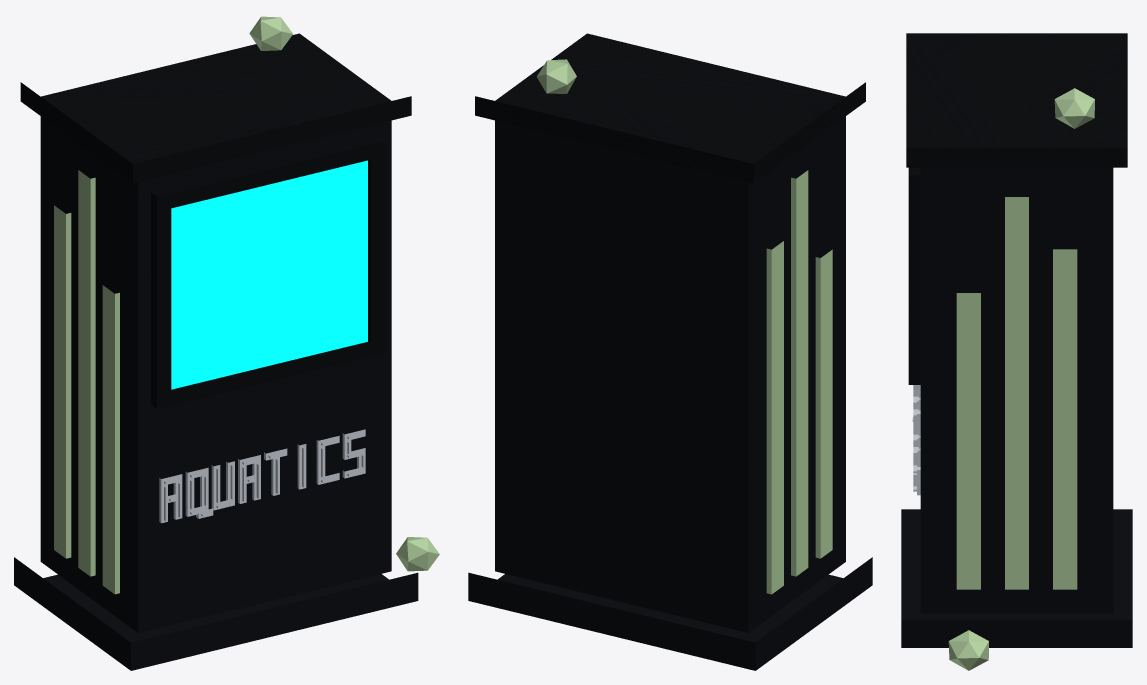
File: tt_aquarium_plinth.glb
The picture shows the model from 3 angles, left to right: view 1: azimuth 30°, elevation 25°; view 2: azimuth 150°, elevation 25°; view 3: azimuth 270°, elevation 25°; orthographic projection.
Visible parts, largest first — view 1: Plinth_Body, Info_Screen, Plinth_Top, Kelp_Side_Ribbons, Screen_Frame, Wayfinding_Glyphs, Moss_Tuft, Top_Moss; view 2: Plinth_Body, Plinth_Top, Kelp_Side_Ribbons, Top_Moss; view 3: Plinth_Body, Plinth_Top, Kelp_Side_Ribbons, Screen_Frame, Top_Moss, Moss_Tuft, Wayfinding_Glyphs.
Boxes of the visible parts, bbox=[...] form: Plinth_Body: bbox=[14, 116, 418, 670]; Info_Screen: bbox=[171, 160, 367, 389]; Plinth_Top: bbox=[20, 33, 411, 183]; Kelp_Side_Ribbons: bbox=[54, 170, 119, 594]; Screen_Frame: bbox=[151, 141, 385, 408]; Wayfinding_Glyphs: bbox=[159, 429, 365, 523]; Moss_Tuft: bbox=[396, 537, 439, 571]; Top_Moss: bbox=[249, 16, 292, 50]; Plinth_Body: bbox=[468, 116, 872, 670]; Plinth_Top: bbox=[475, 33, 865, 183]; Kelp_Side_Ribbons: bbox=[766, 170, 832, 594]; Top_Moss: bbox=[537, 59, 576, 93]; Plinth_Body: bbox=[901, 167, 1132, 647]; Plinth_Top: bbox=[906, 33, 1127, 167]; Kelp_Side_Ribbons: bbox=[956, 197, 1077, 589]; Screen_Frame: bbox=[908, 167, 920, 384]; Top_Moss: bbox=[1054, 88, 1094, 128]; Moss_Tuft: bbox=[948, 630, 988, 670]; Wayfinding_Glyphs: bbox=[912, 385, 920, 495].
Size of what is drawn, in the model's own units: 0.7982 by 1.21 by 0.48.
Materials: 5 (3 with a texture image).
